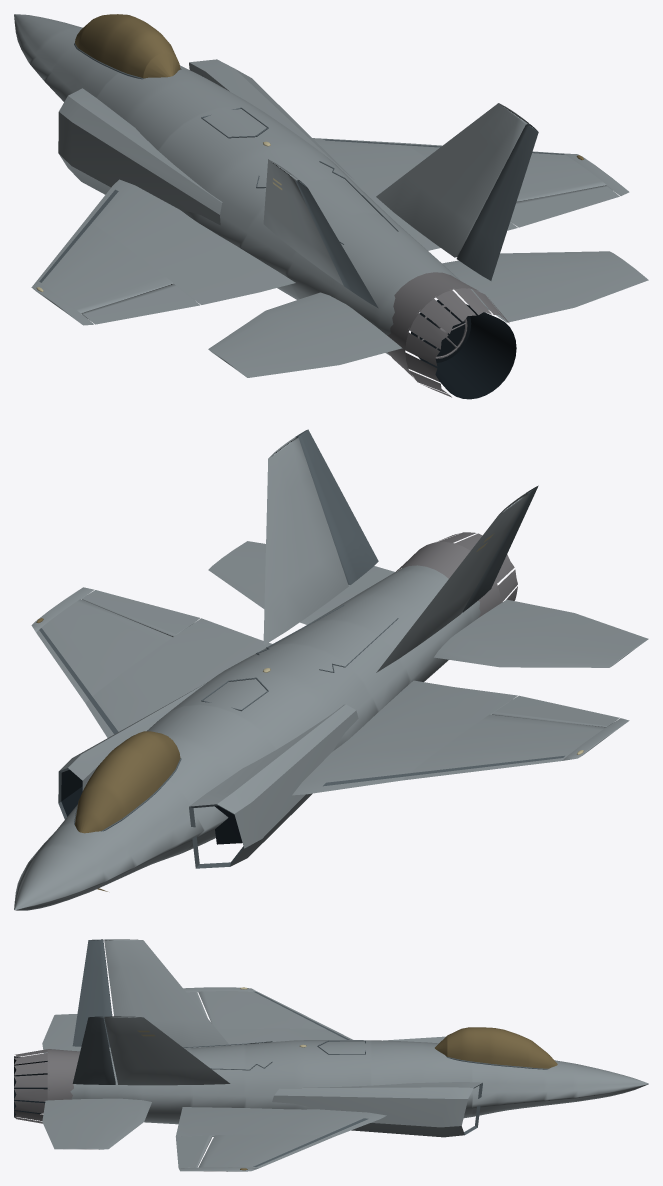
File: player-f35-mobile-v1.glb
3 renders of one model, top to bottom at view 1: azimuth 30°, elevation 25°; view 2: azimuth 150°, elevation 25°; view 3: azimuth 270°, elevation 25°, orthographic. The views are drawn at different scales.
Parts seen in each view (by area): view 1: hull, elevator-left-skin, elevator-right-skin, metal, dark, glass, rudder-right-skin, aileron-left-skin, aileron-right-skin, rudder-left-skin, trim; view 2: hull, elevator-left-skin, glass, rudder-right-skin, elevator-right-skin, trim, metal, aileron-right-skin, aileron-left-skin, dark, rudder-left-skin; view 3: hull, elevator-right-skin, metal, glass, rudder-left-skin, rudder-right-skin, trim, elevator-left-skin, aileron-right-skin, dark.
Part boxes in pixels (bbox=[...]): hull: bbox=[14, 14, 629, 355]; elevator-left-skin: bbox=[208, 292, 402, 377]; elevator-right-skin: bbox=[442, 251, 648, 322]; metal: bbox=[387, 272, 509, 397]; dark: bbox=[202, 76, 516, 399]; glass: bbox=[75, 14, 583, 159]; rudder-right-skin: bbox=[456, 123, 538, 280]; aileron-left-skin: bbox=[82, 284, 199, 324]; aileron-right-skin: bbox=[510, 185, 619, 227]; rudder-left-skin: bbox=[295, 180, 378, 308]; trim: bbox=[39, 43, 564, 282]; hull: bbox=[14, 437, 629, 910]; elevator-left-skin: bbox=[434, 599, 648, 667]; glass: bbox=[36, 618, 180, 891]; rudder-right-skin: bbox=[295, 429, 378, 584]; elevator-right-skin: bbox=[208, 541, 394, 624]; trim: bbox=[39, 605, 564, 868]; metal: bbox=[396, 532, 517, 617]; aileron-right-skin: bbox=[82, 590, 200, 636]; aileron-left-skin: bbox=[492, 695, 619, 727]; dark: bbox=[61, 769, 242, 844]; rudder-left-skin: bbox=[462, 485, 538, 612]; hull: bbox=[70, 939, 648, 1171]; elevator-right-skin: bbox=[42, 1098, 151, 1149]; metal: bbox=[14, 1049, 80, 1123]; glass: bbox=[240, 1027, 557, 1170]; rudder-left-skin: bbox=[72, 939, 112, 1047]; rudder-right-skin: bbox=[72, 1016, 115, 1084]; trim: bbox=[183, 991, 549, 1166]; elevator-left-skin: bbox=[42, 1014, 111, 1053]; aileron-right-skin: bbox=[176, 1135, 212, 1168]; dark: bbox=[14, 1056, 47, 1117].
Size of the model in its own units: 10.7 by 3.95 by 15.7.
